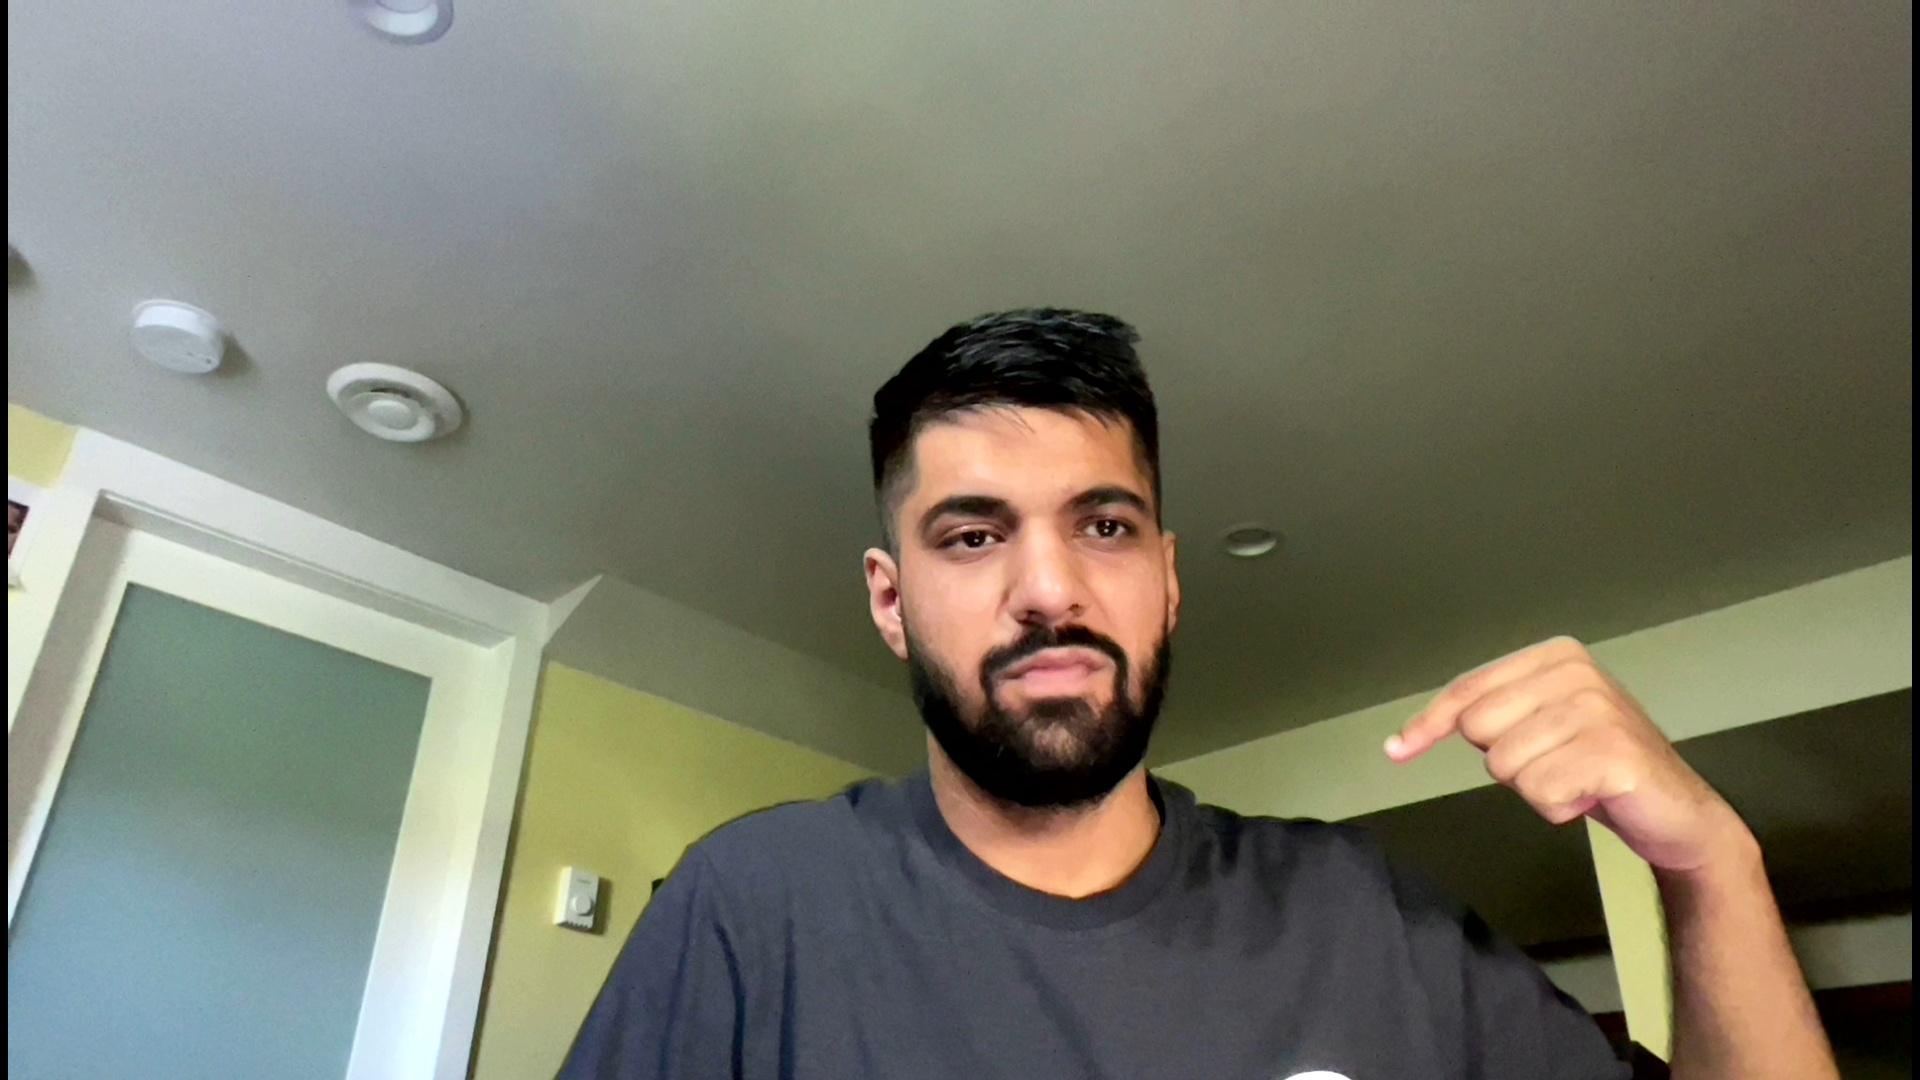Vikrant: (1360, 624, 1785, 881)
